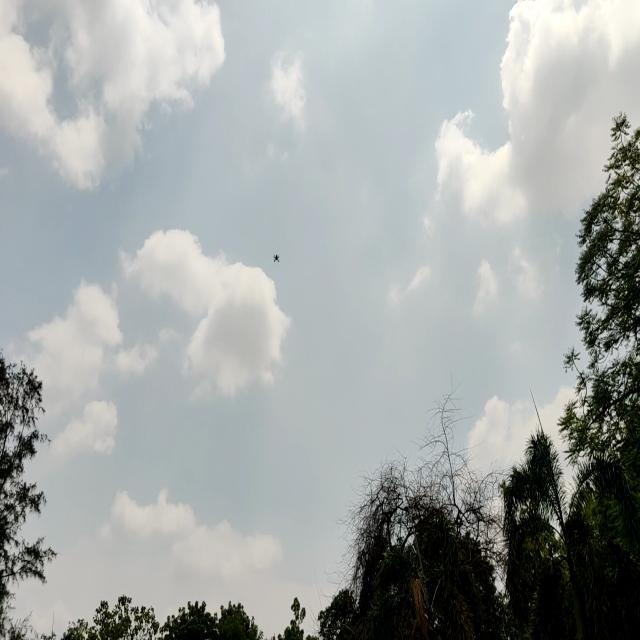drone: (269, 249, 284, 269)
